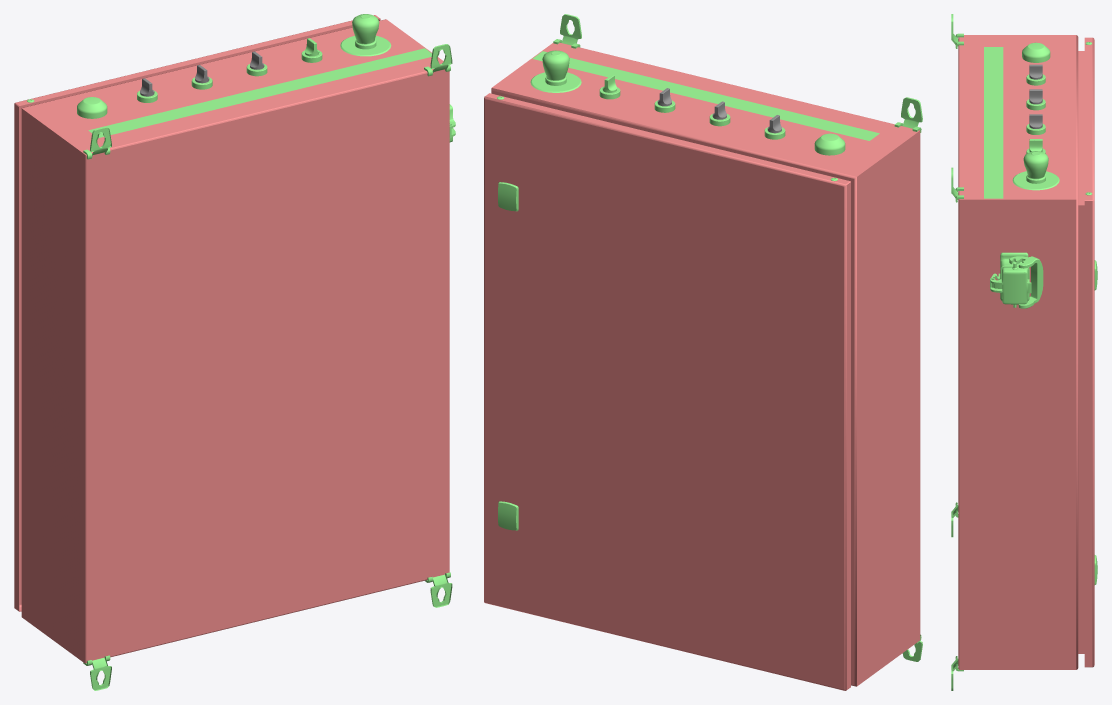
The model's file is HydraulicControlBox.FBX.
3 renders of one model, left to right at view 1: azimuth 30°, elevation 25°; view 2: azimuth 150°, elevation 25°; view 3: azimuth 270°, elevation 25°, orthographic. The views are drawn at different scales.
Visible parts, largest first — view 1: Case, Lid, Front_Stickers, WallMount, Emergency_Stop; view 2: Lid, Case, Front_Stickers, WallMount, TopEngravings, Emergency_Stop; view 3: Case, Lid, Front_Stickers, Socket2, Socket3, WallMount, Emergency_Stop, ButtonBackPlate, Turnegear_Activated, Socket1.
Boxes of the visible parts, x1,y1,x2,y2 form: Case: (21, 19, 449, 663); Lid: (14, 15, 380, 611); Front_Stickers: (88, 48, 431, 137); WallMount: (83, 44, 452, 690); Emergency_Stop: (352, 14, 379, 49); Lid: (484, 93, 850, 690); Case: (491, 42, 920, 686); Front_Stickers: (532, 51, 879, 140); WallMount: (553, 14, 922, 661); TopEngravings: (498, 182, 518, 530); Emergency_Stop: (542, 50, 569, 85); Case: (958, 35, 1084, 669); Lid: (1084, 37, 1094, 667); Front_Stickers: (984, 47, 1003, 198); Socket2: (990, 262, 1031, 307); Socket3: (1009, 256, 1043, 308); WallMount: (951, 14, 963, 690); Emergency_Stop: (1023, 151, 1048, 183); ButtonBackPlate: (1012, 171, 1059, 190); Turnegear_Activated: (1022, 42, 1050, 62); Socket1: (1000, 252, 1028, 267).
Size of the model in its own units: 67.75 by 92.93 by 23.61.
